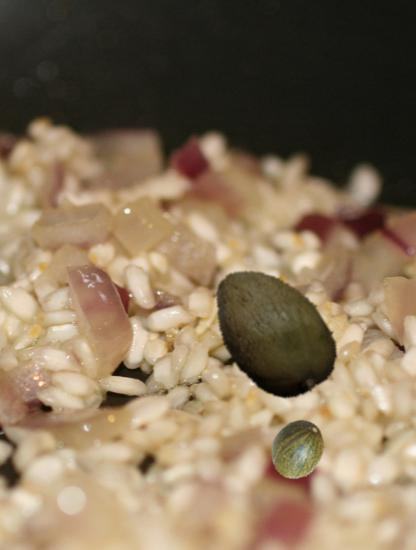Melon: (269, 421, 327, 479)
Papaya: (200, 257, 347, 404)
